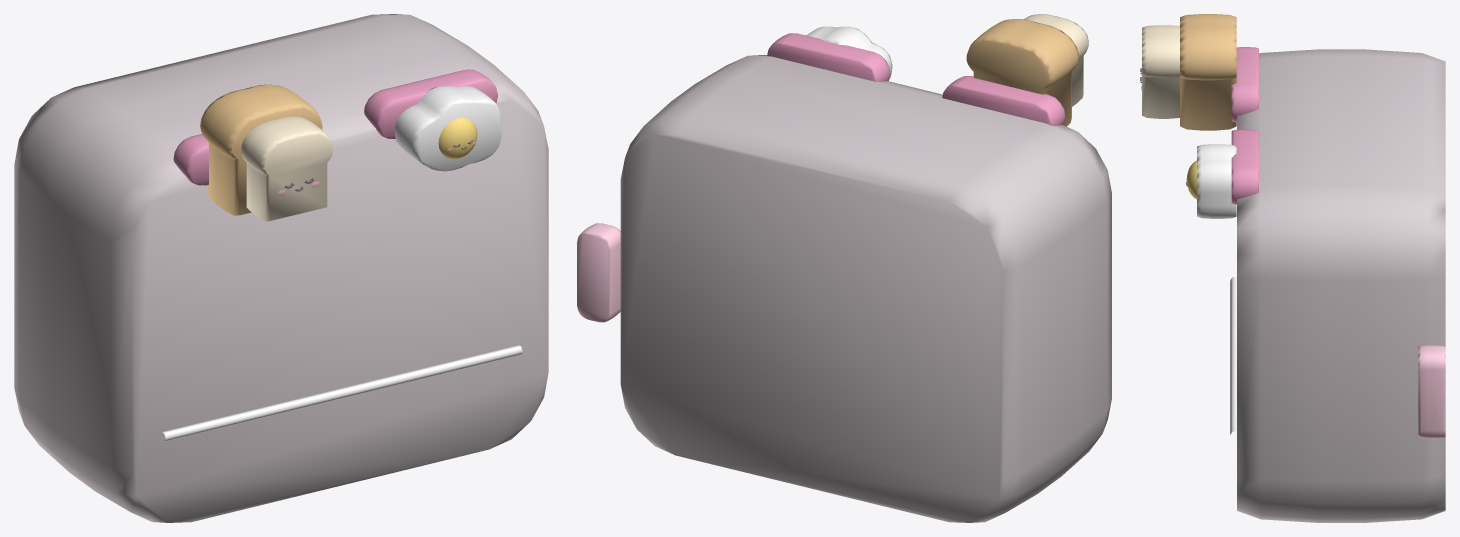
Rendered from decor_2_candy.glb.
3 views of the same model, side by side, from view 1: azimuth 30°, elevation 25°; view 2: azimuth 150°, elevation 25°; view 3: azimuth 270°, elevation 25° (orthographic). The views are drawn at different scales.
Visible parts, largest first — view 1: decor_2_candy; view 2: decor_2_candy; view 3: decor_2_candy.
Part boxes in pixels (x1,y1,x2,y2): decor_2_candy: (14,14,548,522); decor_2_candy: (577,14,1111,522); decor_2_candy: (1140,14,1445,522).
Bounding box in the file's own units: 16.04 × 14.02 × 10.03.
